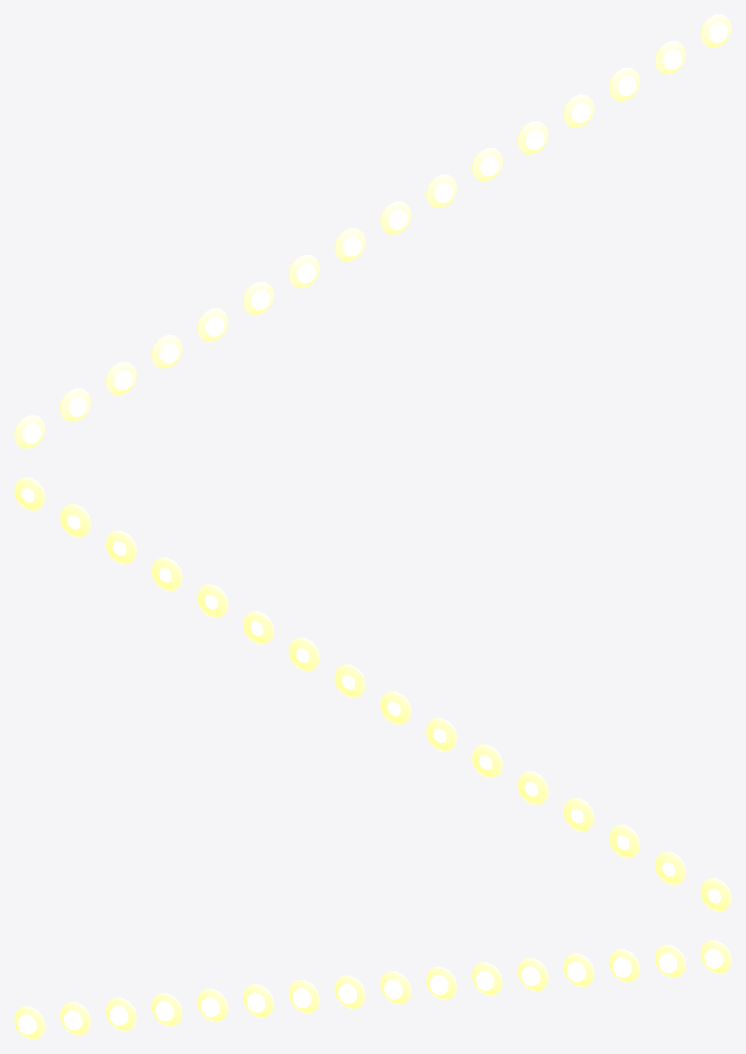
File: starlink_train.glb
3 views of the same model, one above another, from view 1: azimuth 30°, elevation 25°; view 2: azimuth 150°, elevation 25°; view 3: azimuth 330°, elevation 25° (orthographic).
Visible parts, largest first — view 1: starlink_train; view 2: starlink_train; view 3: starlink_train.
Boxes of the visible parts, x1=… form: starlink_train: x1=14, y1=14, x2=731, y2=448; starlink_train: x1=14, y1=477, x2=731, y2=911; starlink_train: x1=14, y1=940, x2=731, y2=1039.
Bounding box in the file's own units: 12.53 × 4.46 × 0.32.
